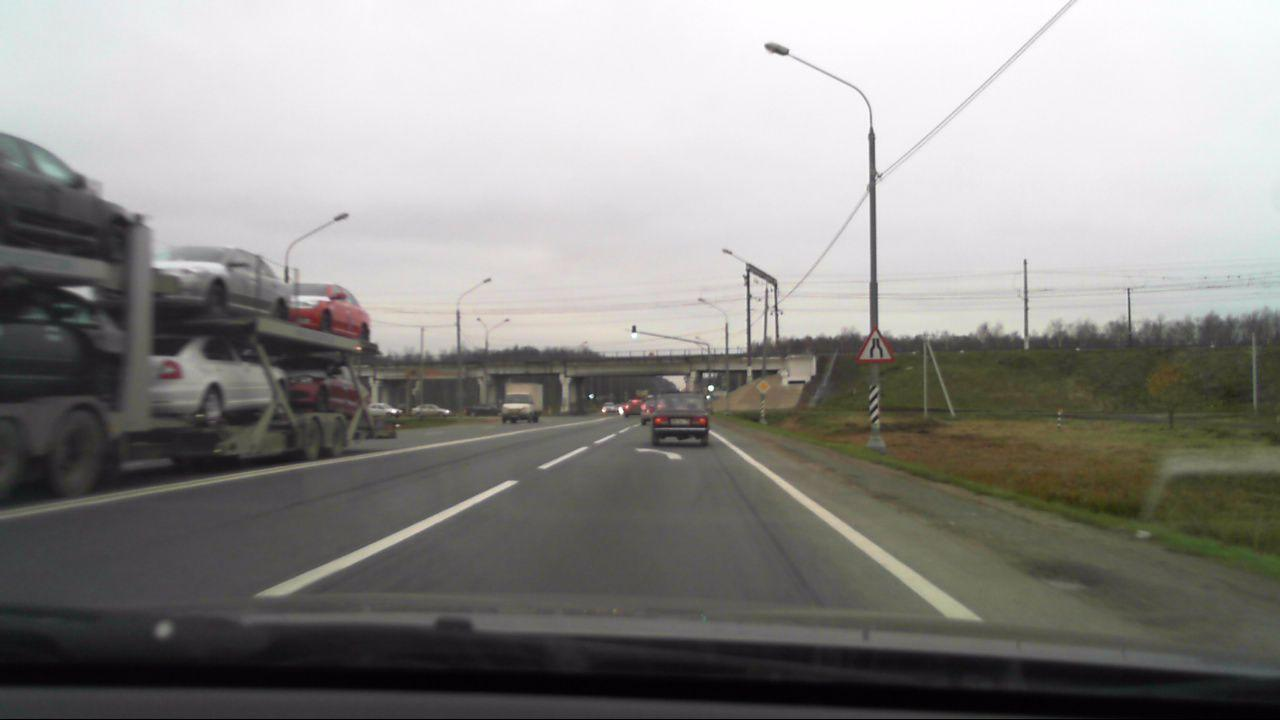1_20_1: (856, 328, 893, 363)
